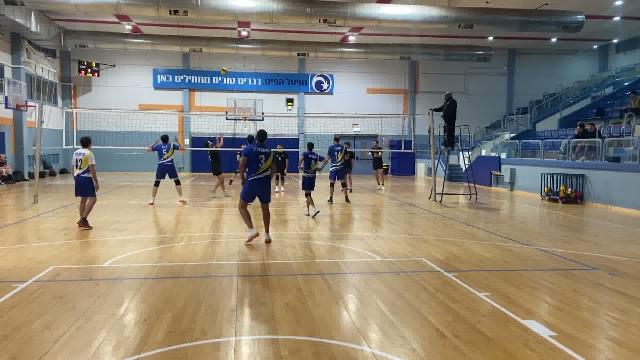ball: (218, 67, 231, 78)
